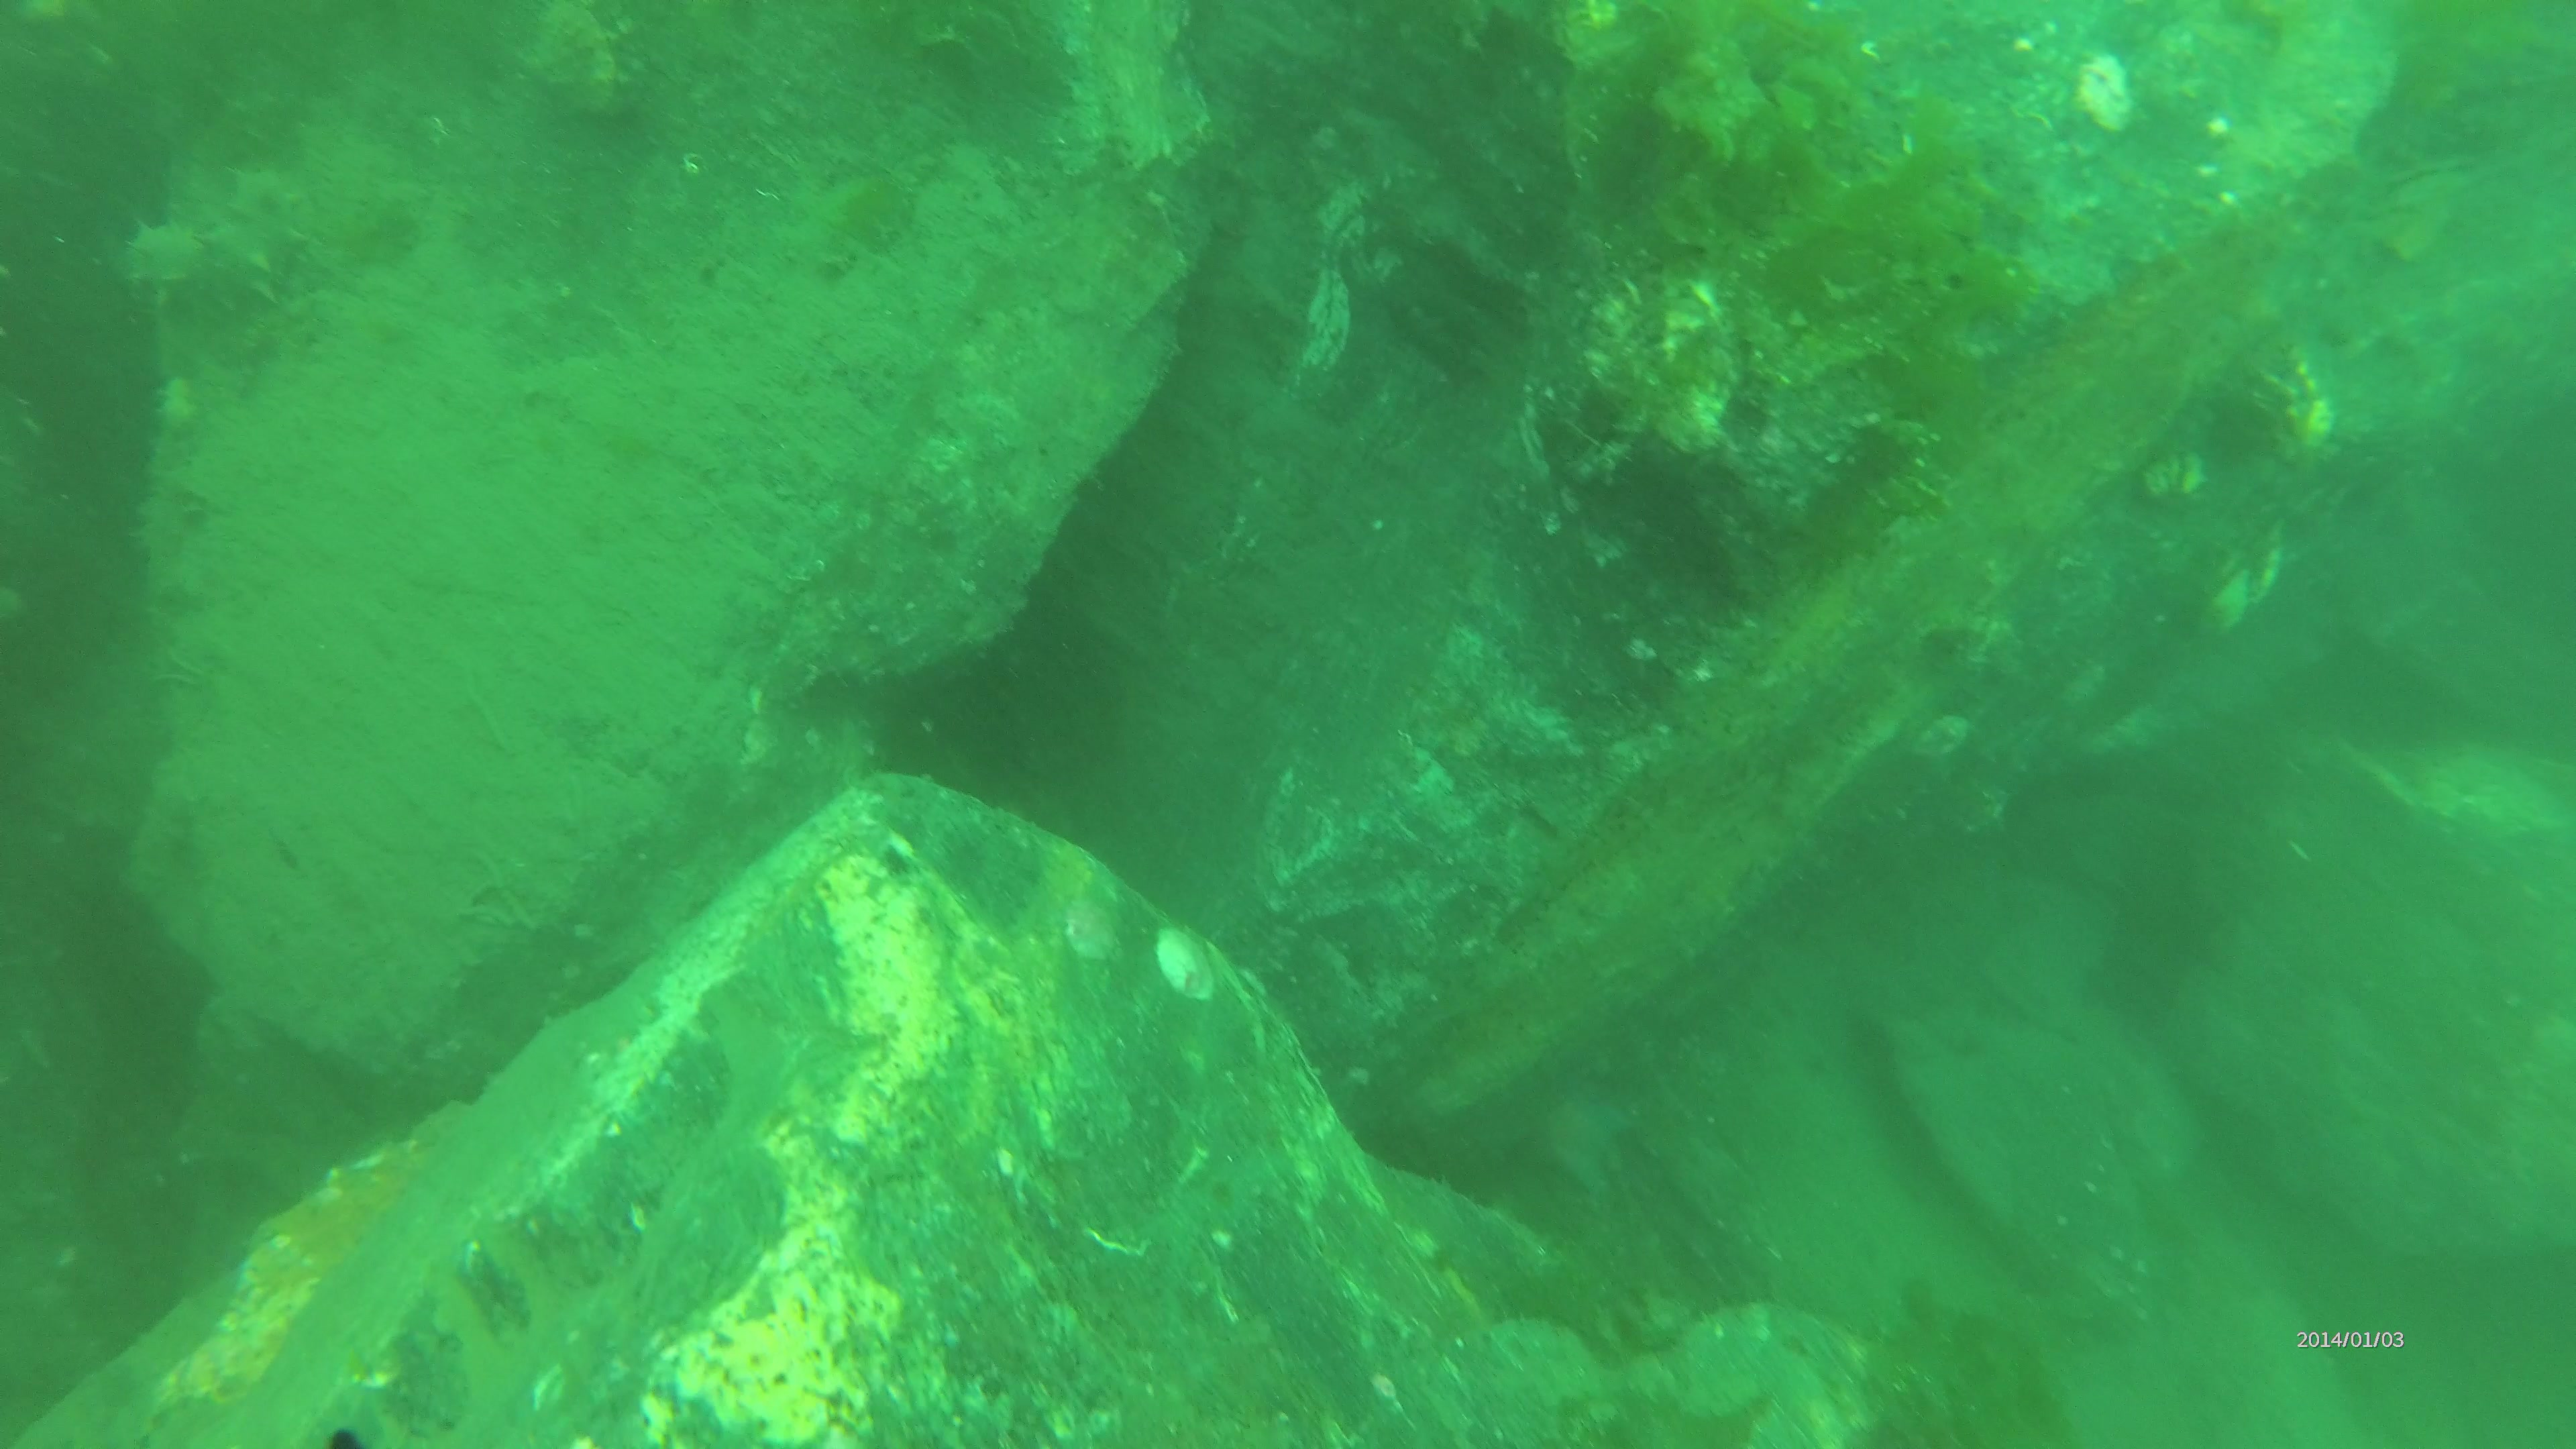holothurian: (122, 165, 311, 326)
scallop: (1582, 272, 1736, 453)
